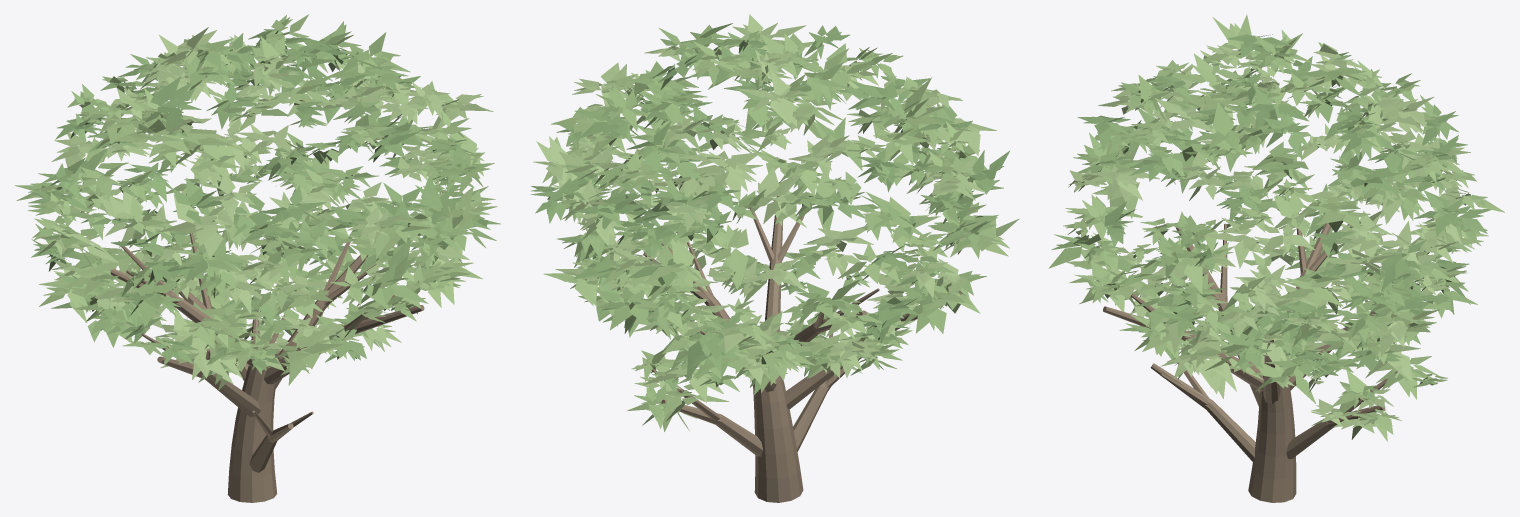
The model's file is StreetPlane_Oak_Refined.fbx.
3 renders of one model, left to right at view 1: azimuth 30°, elevation 25°; view 2: azimuth 150°, elevation 25°; view 3: azimuth 270°, elevation 25°, orthographic. The views are drawn at different scales.
Parts seen in each view (by area): view 1: StreetPlane_Oak_Refined; view 2: StreetPlane_Oak_Refined; view 3: StreetPlane_Oak_Refined.
Boxes of the visible parts, <box> form: StreetPlane_Oak_Refined: <box>14,14,500,502</box>; StreetPlane_Oak_Refined: <box>531,14,1018,502</box>; StreetPlane_Oak_Refined: <box>1048,14,1504,502</box>.
Size of the model in its own units: 499 by 496 by 465.
